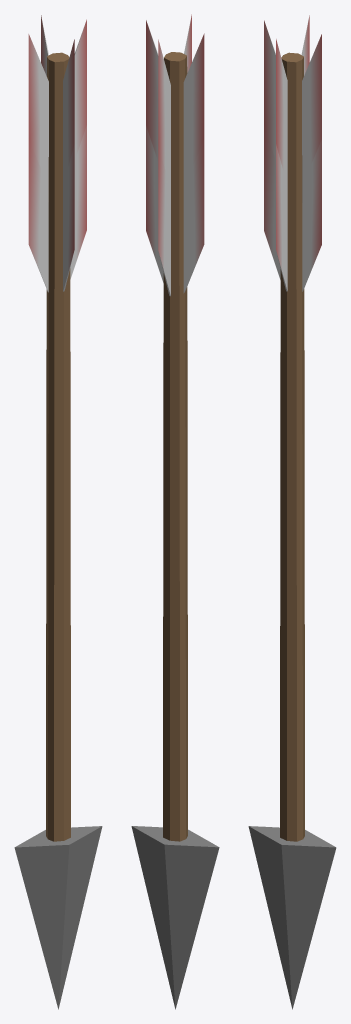
File: Arrow.glb
3 renders of one model, left to right at view 1: azimuth 30°, elevation 25°; view 2: azimuth 150°, elevation 25°; view 3: azimuth 330°, elevation 25°, orthographic.
Visible parts, largest first — view 1: Arrow; view 2: Arrow; view 3: Arrow.
Part boxes in pixels (box(x1,y1,x2,y2)): Arrow: box(14, 15, 102, 1009); Arrow: box(131, 14, 219, 1009); Arrow: box(248, 15, 336, 1009).
Bounding box in the file's own units: 0.3449 × 3.68 × 0.2279.
Materials: 1 (1 with a texture image).
